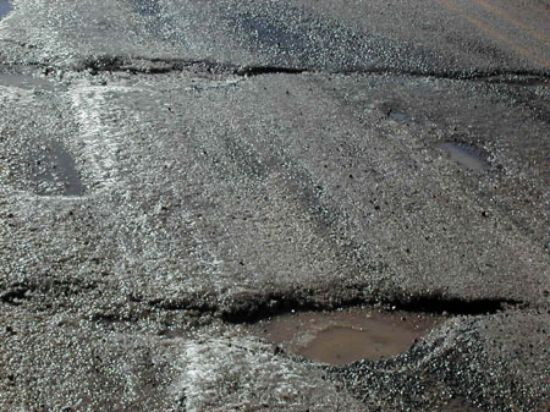pothole: (106, 279, 530, 368)
